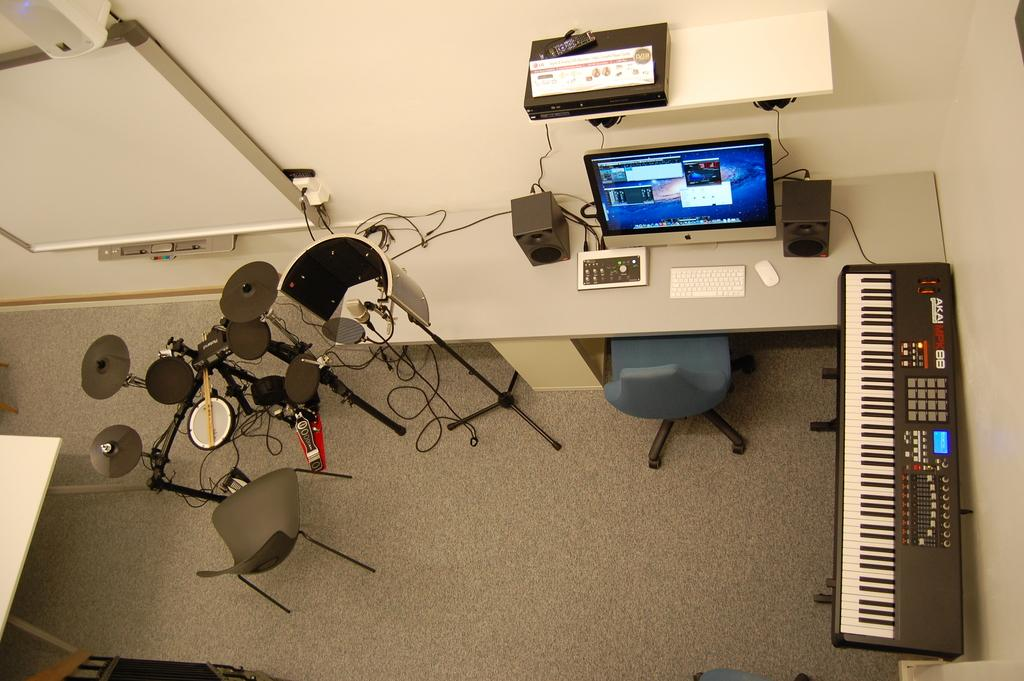Chair: (603, 334, 755, 469)
Computer-monitor: (580, 131, 779, 248)
